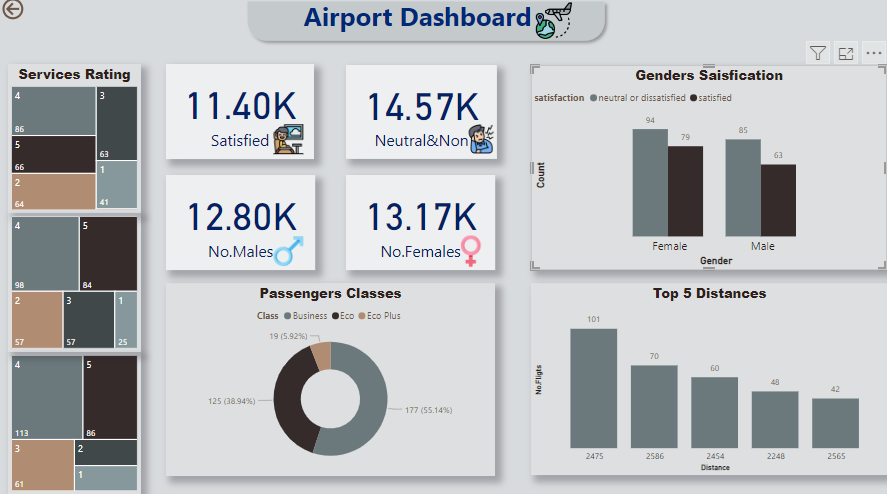

This screenshot's page, from the dashboard's own definition file:
{"tool":"powerbi","page":{"name":"Airport Dashboard","canvas":[1280,720],"ordinal":0},"visuals":[{"type":"textbox","box":[0,0,1279.3,720.7],"z":1000},{"type":"shape","box":[348.5,0,532.8,74.9],"z":2000},{"type":"textbox","box":[433.4,0,411.8,115.2],"z":2001},{"type":"card","fields":{"Values":["CountNonNull(Airport.id)"]},"box":[499.7,259.2,214.6,136.8],"z":2006},{"type":"clusteredColumnChart","title":"Top 5 Distances","fields":{"Category":["Airport.Flight Distance"],"Y":["CountNonNull(Airport.Flight Distance)"]},"box":[765.6,415.3,514.4,276.8],"z":2007},{"type":"donutChart","title":"Passengers Classes","fields":{"Series":["Airport.Class"],"Category":["Airport.Class"],"Y":["CountNonNull(Airport.id)"]},"box":[240.5,414.7,473.8,277.9],"z":2008},{"type":"clusteredColumnChart","title":"Genders Saisfication","fields":{"Category":["Airport.Gender"],"Y":["CountNonNull(Airport.id)"],"Series":["Airport.satisfaction"]},"box":[766.1,100.8,512.6,295.2],"z":2009},{"type":"card","fields":{"Values":["CountNonNull(Airport.id)"]},"box":[240.5,259.2,214.6,136.8],"z":2011},{"type":"card","fields":{"Values":["CountNonNull(Airport.id)"]},"box":[240.5,99.4,213.1,136.8],"z":2012},{"type":"card","fields":{"Values":["CountNonNull(Airport.id)"]},"box":[499.7,100.8,217.4,135.4],"z":2013},{"type":"actionButton","box":[0,0,100,40],"z":2016},{"type":"treemap","fields":{"Values":["CountNonNull(Airport.Inflight service)"],"Group":["Airport.Inflight service"]},"box":[13.7,514.4,191.4,205.1],"z":2017},{"type":"treemap","title":"Services Rating","fields":{"Group":["Airport.Food and drink"],"Values":["CountNonNull(Airport.Food and drink)"]},"box":[13.7,99.1,191.4,215.3],"z":2018},{"type":"treemap","fields":{"Group":["Airport.On-board service"],"Values":["CountNonNull(Airport.On-board service)"]},"box":[13.7,314.4,191.4,199.9],"z":2019},{"type":"image","box":[640.8,341.3,76.3,54.7],"z":2020},{"type":"image","box":[390.2,341.3,53.3,54.7],"z":2021},{"type":"image","box":[668.2,172.8,53.3,69.1],"z":2022},{"type":"image","box":[390.2,174.2,53.3,66.2],"z":2023},{"type":"image","box":[766.1,0,66.2,74.9],"z":2024}]}

Visuals, with their boxes in screenshot pixels (x1, y1, x2, y2), scaled from the page's 1280x720 canvas onto the 887x494 screenshot:
textbox: select_region(0, 0, 886, 493)
shape: select_region(241, 0, 611, 51)
textbox: select_region(300, 0, 586, 79)
card - CountNonNull(Airport.id): select_region(346, 178, 495, 272)
"Top 5 Distances" clusteredColumnChart: select_region(531, 285, 886, 475)
"Passengers Classes" donutChart: select_region(167, 285, 495, 475)
"Genders Saisfication" clusteredColumnChart: select_region(531, 69, 886, 272)
card - CountNonNull(Airport.id): select_region(167, 178, 315, 272)
card - CountNonNull(Airport.id): select_region(167, 68, 314, 162)
card - CountNonNull(Airport.id): select_region(346, 69, 497, 162)
actionButton: select_region(0, 0, 69, 27)
treemap - CountNonNull(Airport.Inflight service) x Airport.Inflight service: select_region(9, 353, 142, 493)
"Services Rating" treemap: select_region(9, 68, 142, 216)
treemap - Airport.On-board service x CountNonNull(Airport.On-board service): select_region(9, 216, 142, 353)
image: select_region(444, 234, 497, 272)
image: select_region(270, 234, 307, 272)
image: select_region(463, 119, 500, 166)
image: select_region(270, 120, 307, 165)
image: select_region(531, 0, 577, 51)
